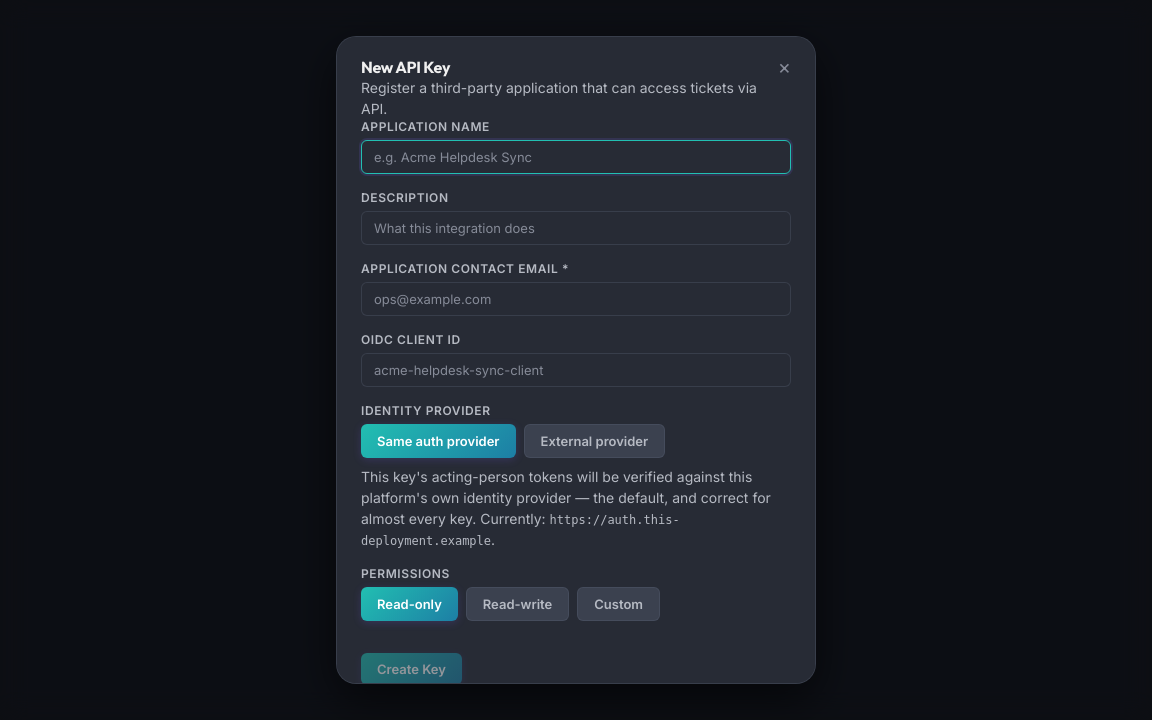
Test case: CreateApiKeyModal (ADR-012 Phase A spec R7/R8, PR A5) › hides the Issuer URL / External Org ID inputs until 'External provider' is chosen
Expected: the field with placeholder "https://auth.example.com" is not shown
Step 1. Click the button "External provider" → x=594, y=441, box [524,424,665,458]
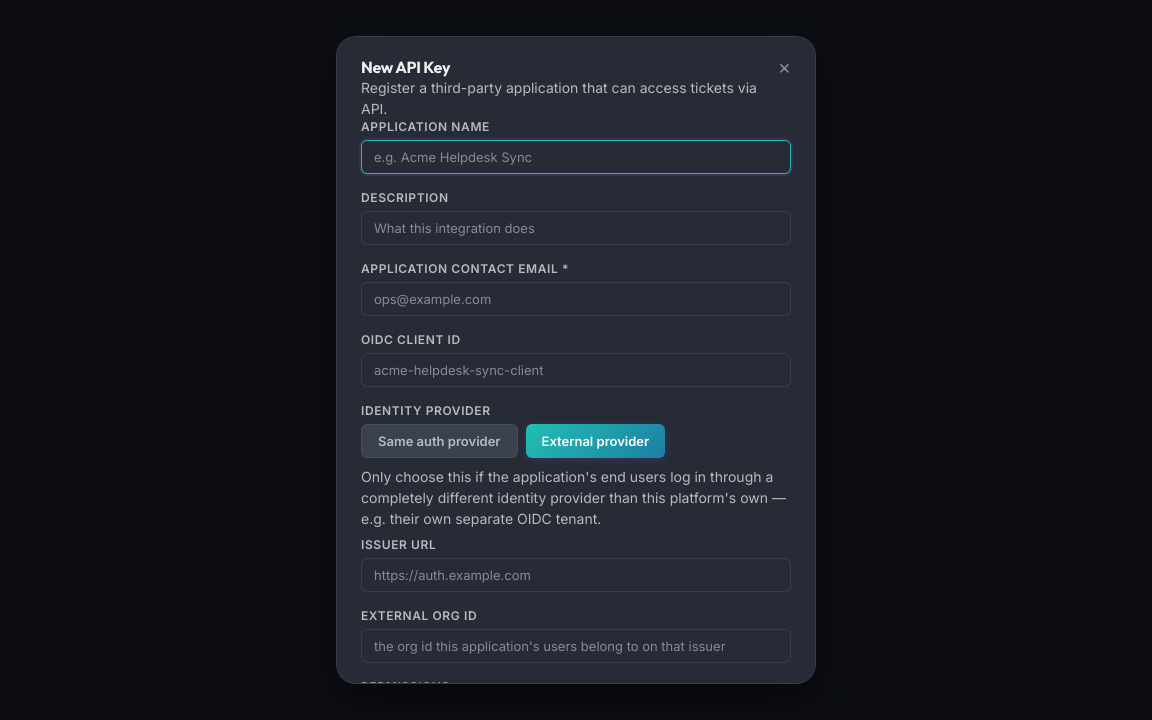
Expected: the field with placeholder "https://auth.example.com" is shown, [361,558,791,592]
